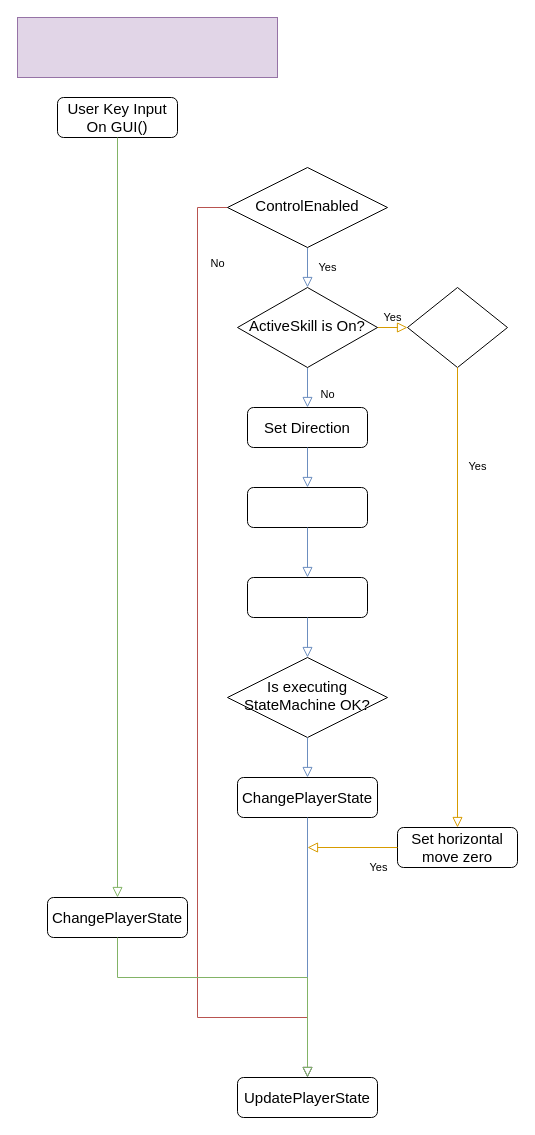
The diagram is 535 pixels wide and 1135 high, and some of its shapes have lost their labels. The shapes that lost their labels are listed below. From the top down, each one's centre as x and y in pixels, then its label:
pixel 147 47: Player State Machine Manager FlowChart
pixel 457 327: on Ground?
pixel 307 507: Calc Horizontal Movement
pixel 307 597: User Key Input On Update()
